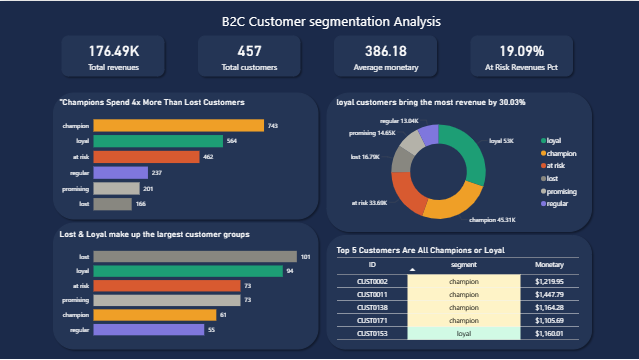

This screenshot's page, from the dashboard's own definition file:
{"tool":"powerbi","page":{"name":"Page 1","canvas":[1280,720],"ordinal":0},"visuals":[{"type":"card","fields":{"Values":["customers.Total revenues"]},"box":[126,68,202,80],"z":0},{"type":"card","fields":{"Values":["customers.Average monetary"]},"box":[670,68,204,80],"z":1000},{"type":"card","fields":{"Values":["customers.At Risk Revenues Pct"]},"box":[940,68,206,80],"z":2000},{"type":"card","fields":{"Values":["customers.Total customers"]},"box":[396,68,206,80],"z":3000},{"type":"donutChart","title":"loyal customers bring the most revenue by 30.03% ","fields":{"Category":["rfm  scoresCSV.segmant"],"Y":["customers.Total revenues"]},"box":[668.8,191.2,500,280],"z":4000},{"type":"clusteredBarChart","title":"\"Champions Spend 4x More Than Lost Customers","fields":{"Category":["rfm  scoresCSV.segmant"],"Y":["customers.Average monetary"]},"box":[113.8,191.2,515,245],"z":5000},{"type":"clusteredBarChart","title":"Lost & Loyal make up the largest customer groups","fields":{"Category":["rfm  scoresCSV.segmant"],"Y":["customers.Total customers"]},"box":[113.8,456.2,515,230],"z":6000},{"type":"tableEx","title":"Top 5 Customers Are All Champions or Loyal","fields":{"Values":["rfm  scoresCSV.customer_id","rfm  scoresCSV.segmant","Sum(rfm  scoresCSV.monetary)"]},"box":[668.9,488.9,500,197.8],"z":7000},{"type":"textbox","box":[114,16,1076,54],"z":8000}]}

Visuals, with their boxes in screenshot pixels (x1, y1, x2, y2), scaled from the page's 1280x720 canvas onto the 639x360 screenshot:
card - customers.Total revenues: crop(63, 34, 164, 74)
card - customers.Average monetary: crop(334, 34, 436, 74)
card - customers.At Risk Revenues Pct: crop(469, 34, 572, 74)
card - customers.Total customers: crop(198, 34, 301, 74)
"loyal customers bring the most revenue by 30.03% " donutChart: crop(334, 96, 583, 236)
""Champions Spend 4x More Than Lost Customers" clusteredBarChart: crop(57, 96, 314, 218)
"Lost & Loyal make up the largest customer groups" clusteredBarChart: crop(57, 228, 314, 343)
"Top 5 Customers Are All Champions or Loyal" tableEx: crop(334, 244, 584, 343)
textbox: crop(57, 8, 594, 35)
